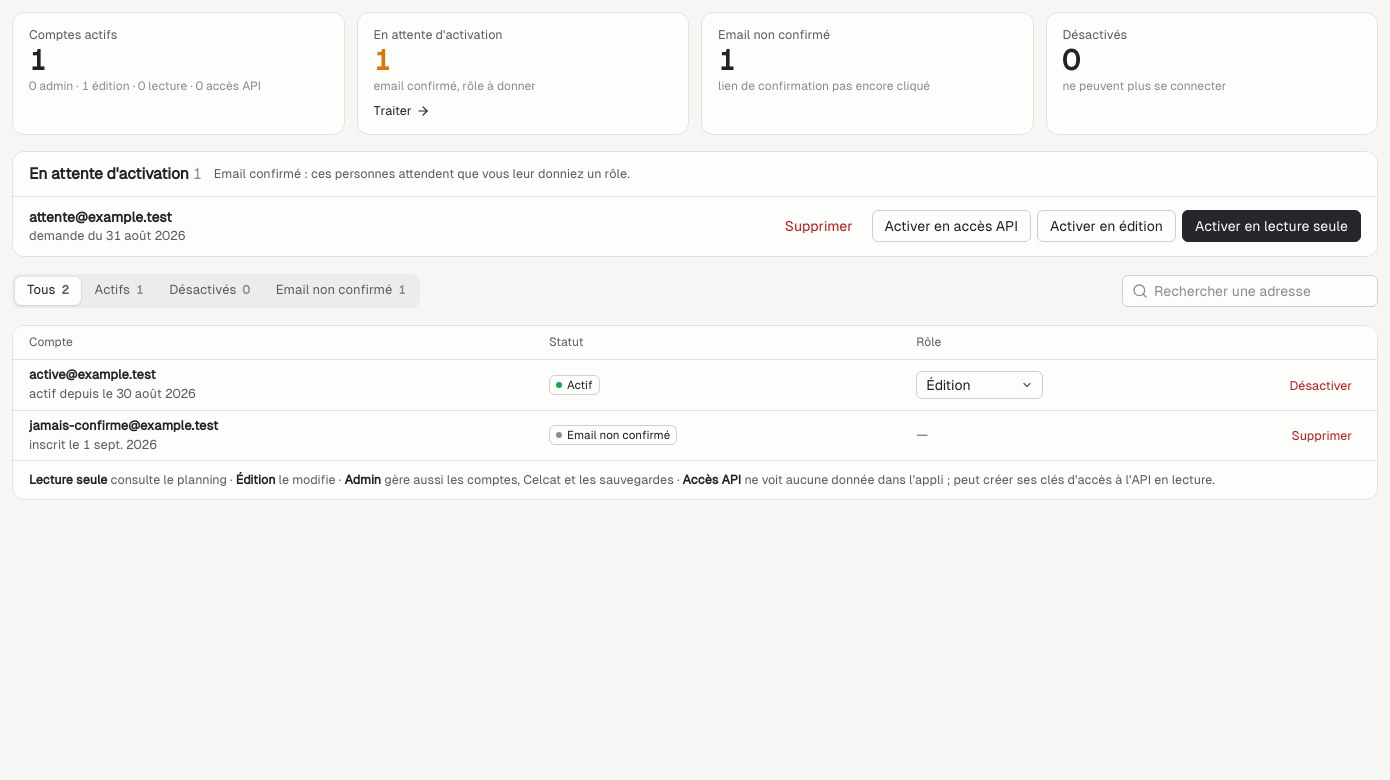
Scenario: AdminUsersView › should show the server's error message and keep the row on delete failure
This screenshot has width=1390, height=780.
Check: the text "attente@example.test" is shown, box [29,207,185,227]
Click the button "Supprimer" in the row of "attente@example.test" at (819, 226), box [772,210,866,242]
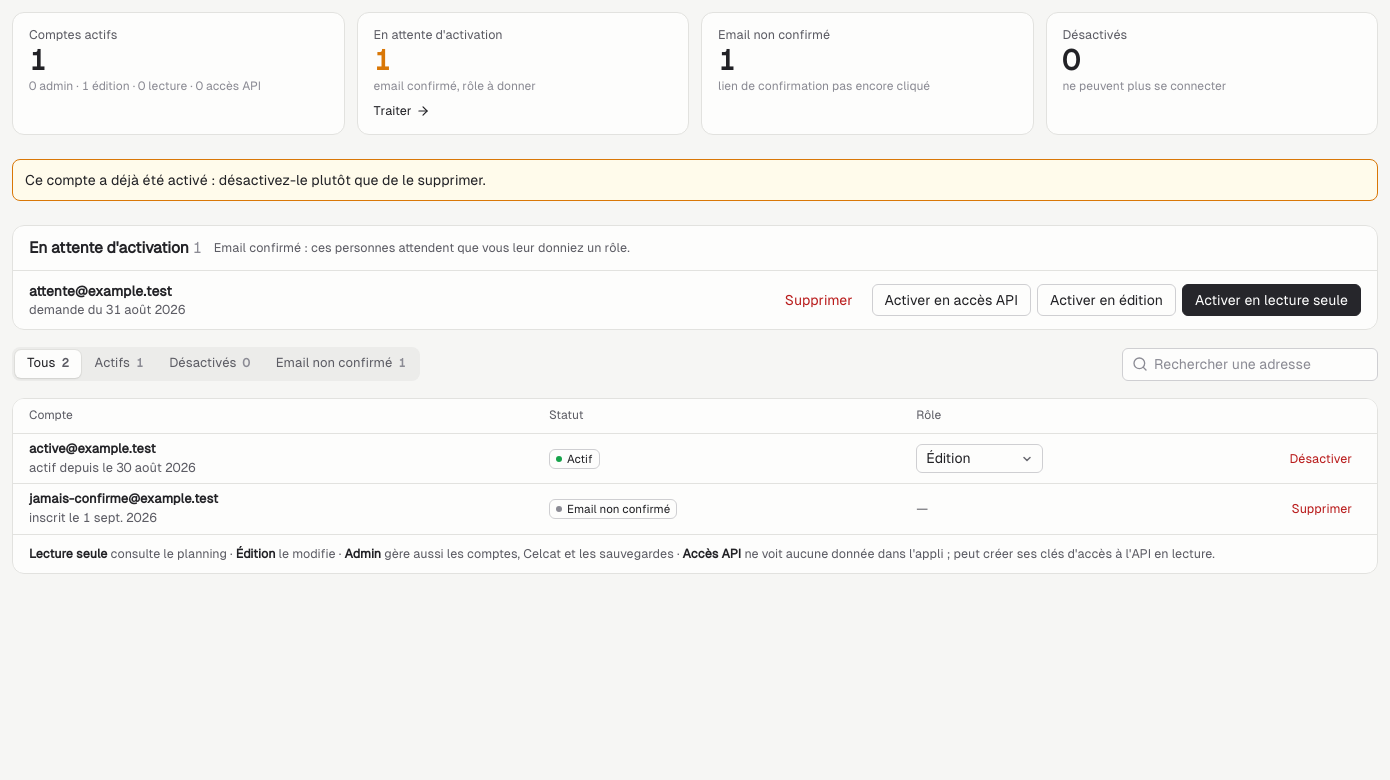
Check: the text "attente@example.test" is shown, box [29,281,185,301]
Check: the message reads "Ce compte a déjà été activé : désactivez-le plutôt que de le supprimer.", box [25,172,486,188]
